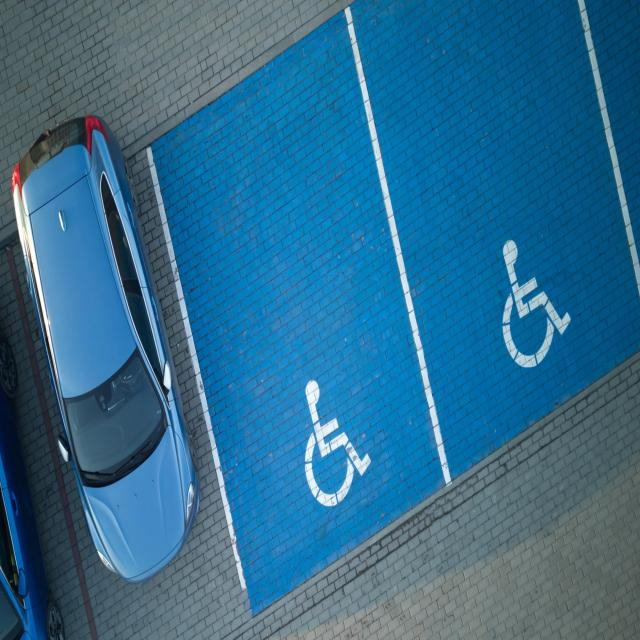discapacitados: (147, 15, 445, 611), (354, 3, 640, 468)
ocupado: (2, 85, 251, 640)
